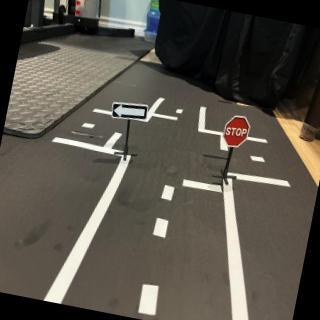sign_oneway_left: (111, 98, 152, 126)
sign_stop: (222, 115, 252, 150)
